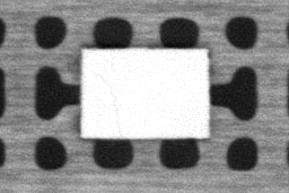DIE_CRACK: (93, 73, 123, 137)
